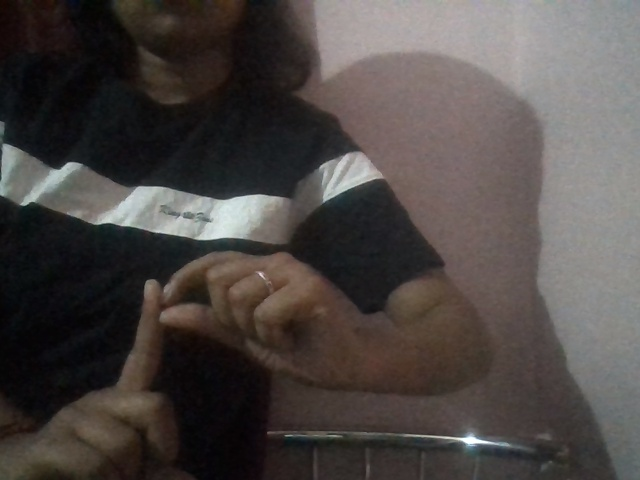P: (57, 238, 384, 480)
